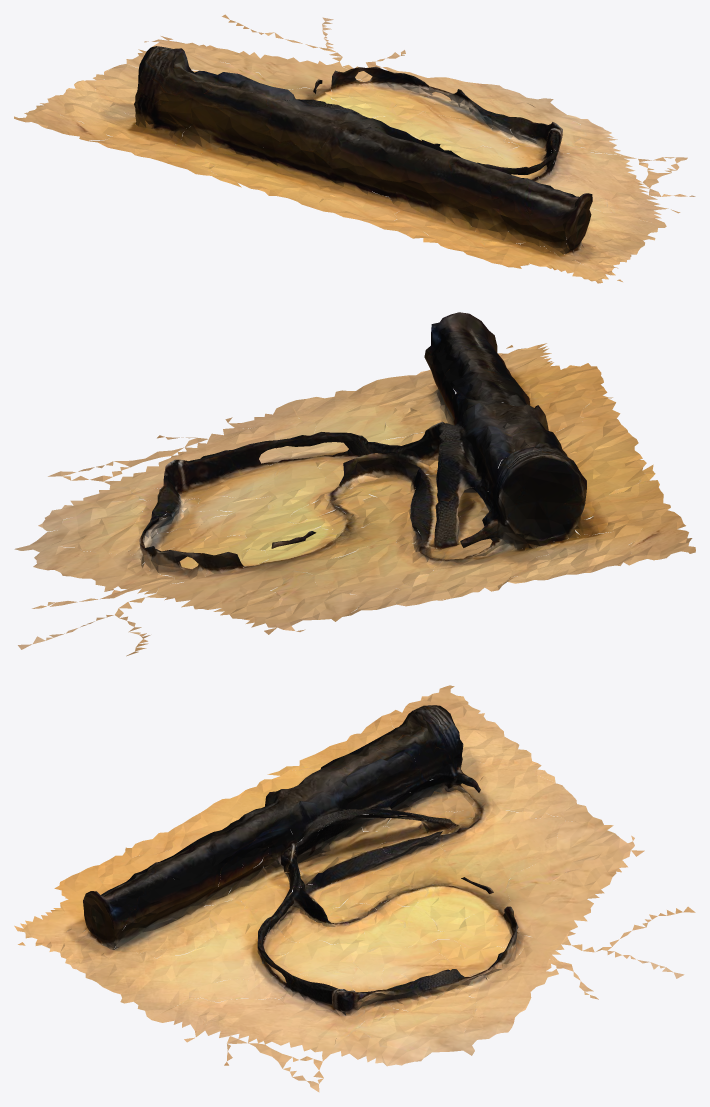
Rendered from 13_telescope.gltf.
The picture shows the model from 3 angles, top to bottom: view 1: azimuth 30°, elevation 25°; view 2: azimuth 150°, elevation 25°; view 3: azimuth 270°, elevation 25°; orthographic projection. The views are drawn at different scales.
Visible parts, largest first — view 1: model_New_Qlone_20240218_162753807.001; view 2: model_New_Qlone_20240218_162753807.001; view 3: model_New_Qlone_20240218_162753807.001.
Part boxes in pixels (box(x1,y1,x2,y2)): model_New_Qlone_20240218_162753807.001: box(14, 14, 695, 283); model_New_Qlone_20240218_162753807.001: box(14, 312, 695, 656); model_New_Qlone_20240218_162753807.001: box(14, 685, 695, 1092).
Size of the model in its own units: 0.9603 by 0.2731 by 0.9921.
Materials: 1 (1 with a texture image).
